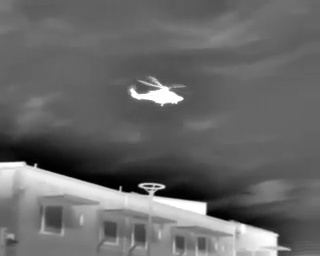HELICOPTER: (126, 70, 192, 115)
